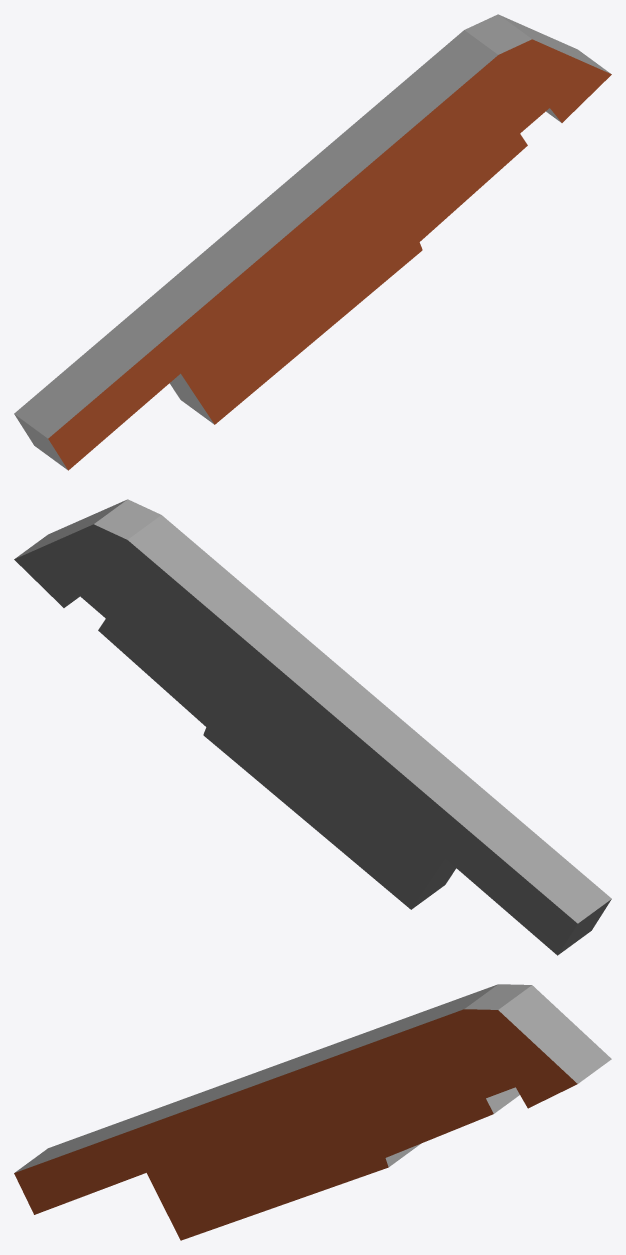
File: construction_3105_assumed_A_Casa_h6m.obj
The picture shows the model from 3 angles, top to bottom: view 1: azimuth 30°, elevation 25°; view 2: azimuth 150°, elevation 25°; view 3: azimuth 330°, elevation 25°; orthographic projection.
Parts seen in each view (by area): view 1: construction_3105_assumed_A_Casa; view 2: construction_3105_assumed_A_Casa; view 3: construction_3105_assumed_A_Casa.
Part boxes in pixels (<box>): construction_3105_assumed_A_Casa: <box>14,14,611,470</box>; construction_3105_assumed_A_Casa: <box>14,499,611,955</box>; construction_3105_assumed_A_Casa: <box>14,984,611,1240</box>.
Size of the model in its own units: 57.23 by 30.86 by 6.
